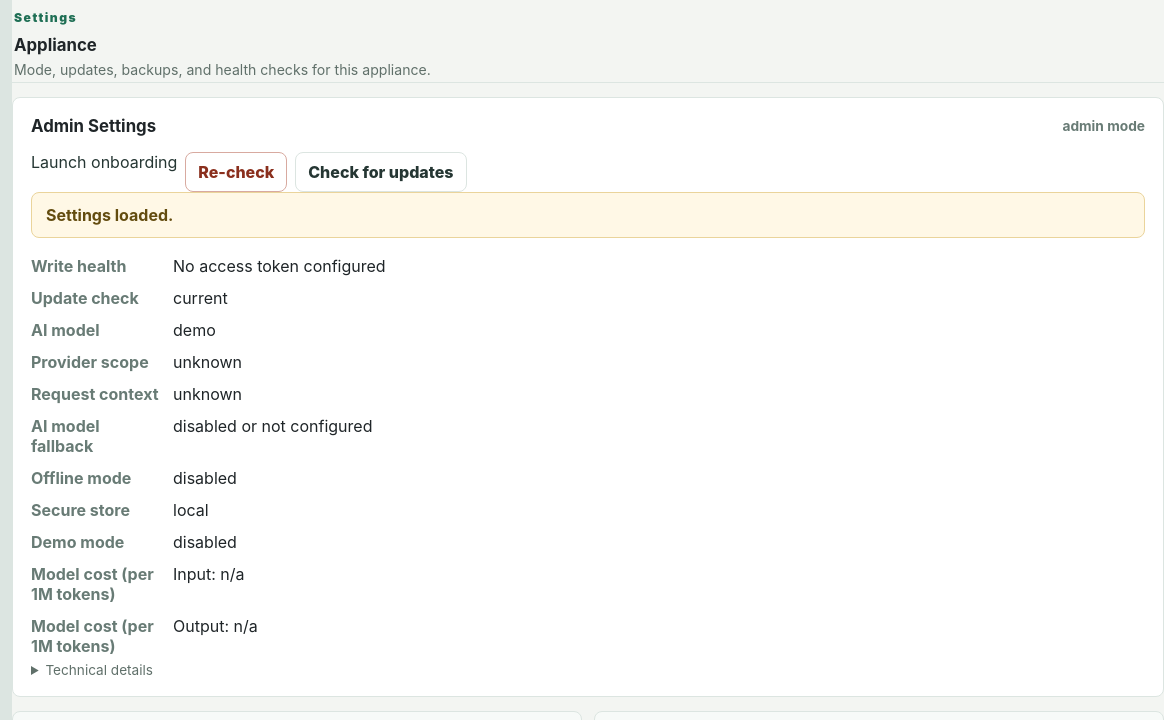
Test: Settings loading › provides an explicit write health re-check action
The width and height of the screenshot is (1164, 720).
Check: the text "Settings loaded." is shown, box left=31, top=192, right=1145, bottom=238
Step 1. Click the button "Re-check" → click(236, 172), box left=185, top=152, right=287, bottom=192
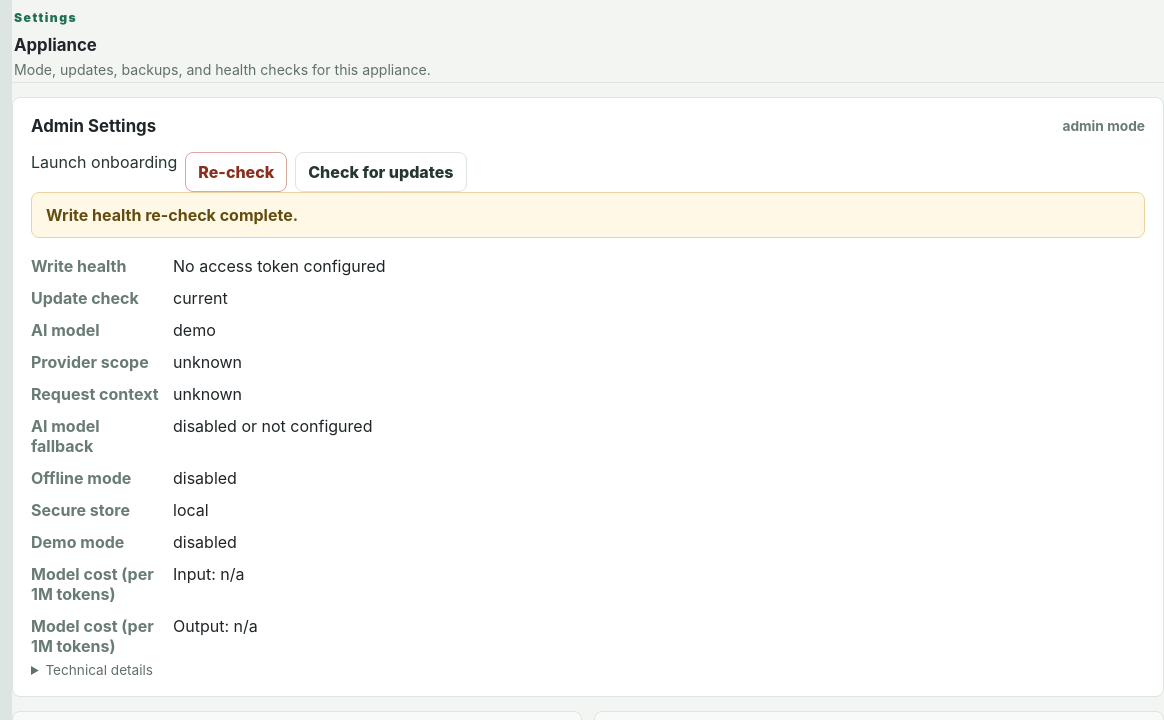
Check: the text "Write health re-check complete." is shown, box left=31, top=192, right=1145, bottom=238
